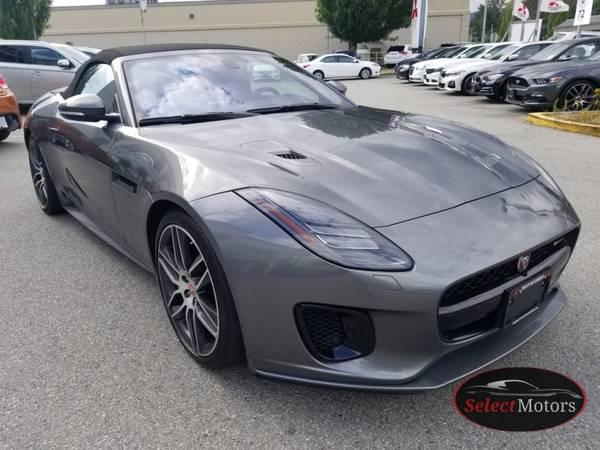Front_Bumper: (183, 171, 580, 386)
Front_Fender: (110, 125, 245, 277)
Front_Right_Door: (53, 101, 123, 252)
Front_Right_Window: (66, 62, 122, 125)
Front_Windshield: (125, 55, 363, 125)
Grille: (434, 219, 580, 337)
Hood: (138, 109, 540, 230)
Rear_Fender: (21, 92, 58, 179)
Right_Headlight: (234, 188, 417, 271)
Roof: (63, 44, 277, 128)
Wheel: (154, 209, 240, 364), (27, 140, 52, 215)
